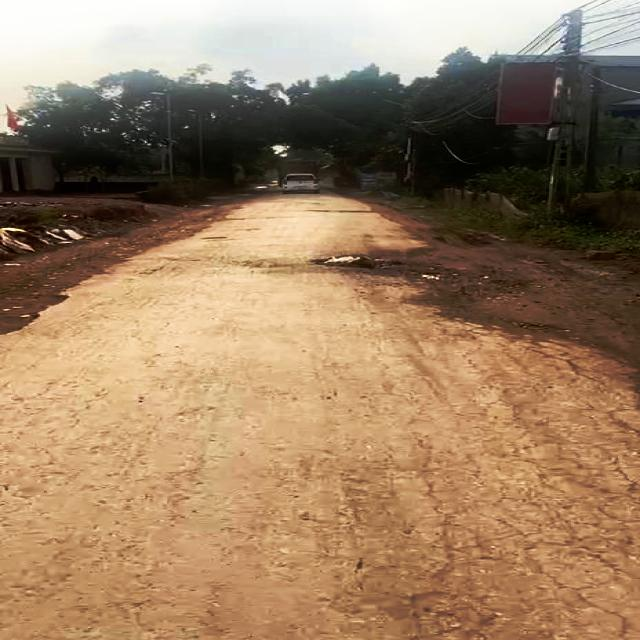pothole: (312, 252, 402, 276)
